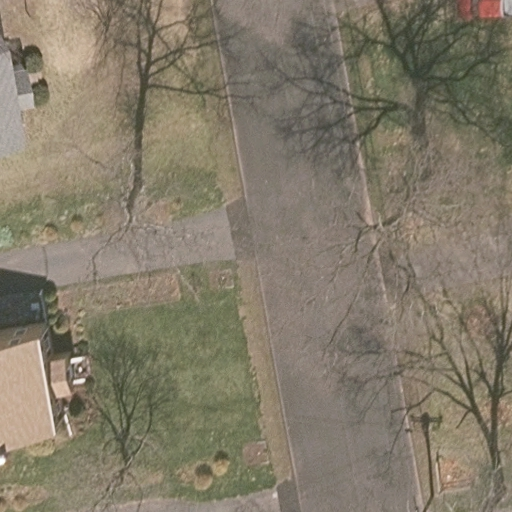DT: (411, 479, 449, 512)
